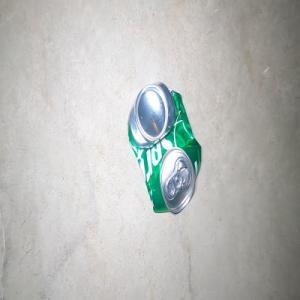SodaCan: (127, 80, 201, 213)
